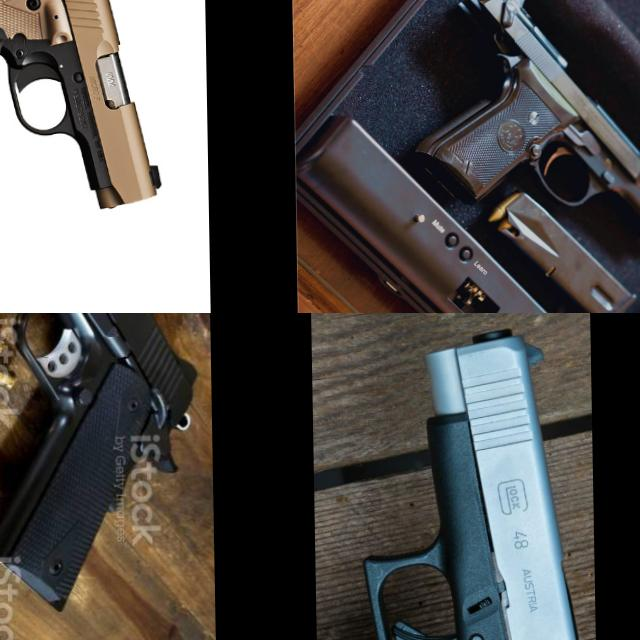handgun: (310, 323, 598, 640), (0, 313, 204, 617), (403, 0, 640, 251), (0, 0, 163, 213)
